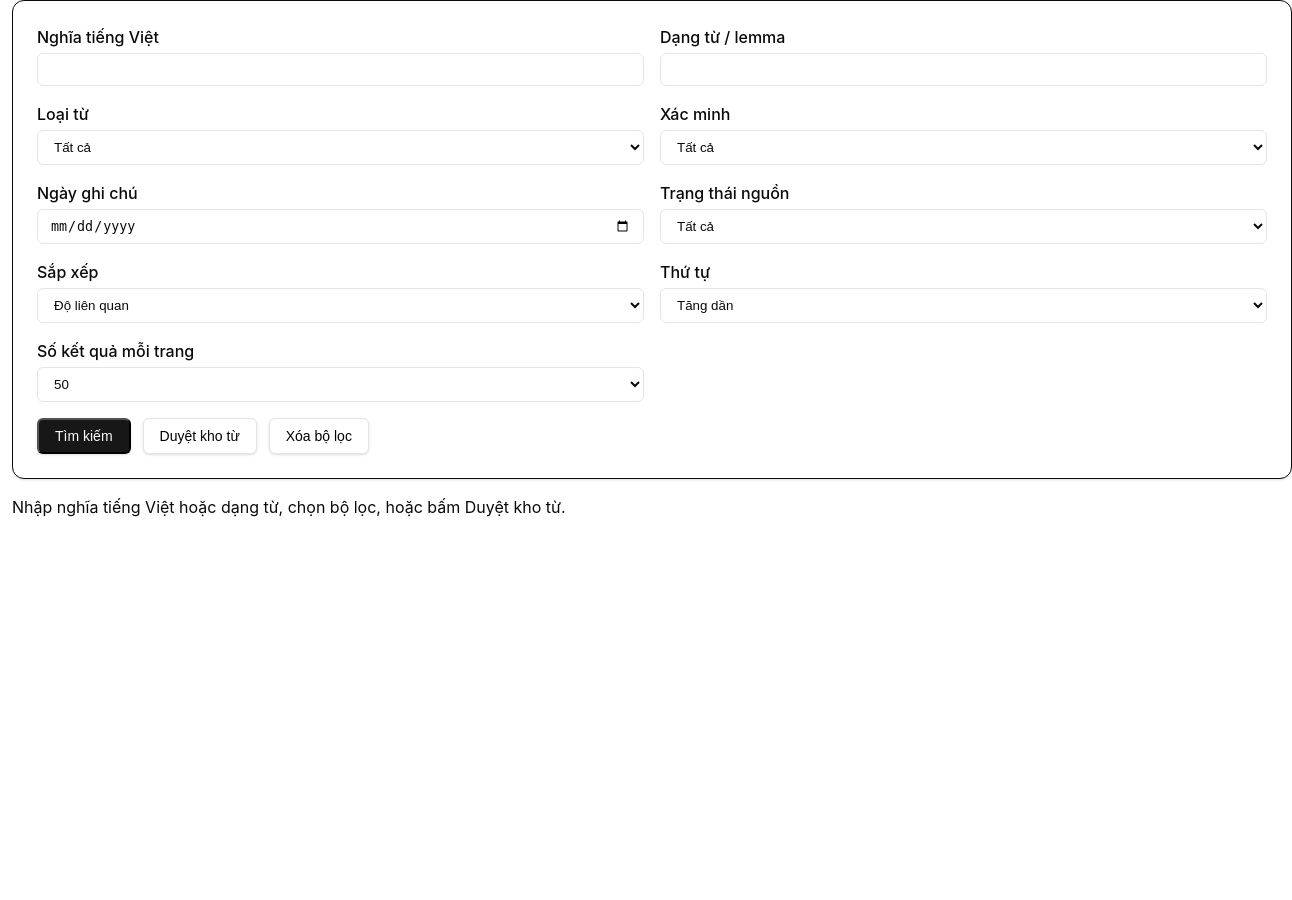
Test case: T028 local search › requires explicit browse and presents actual page data
Click the button "Duyệt kho từ".
click(200, 436)  # box [143,418,257,454]
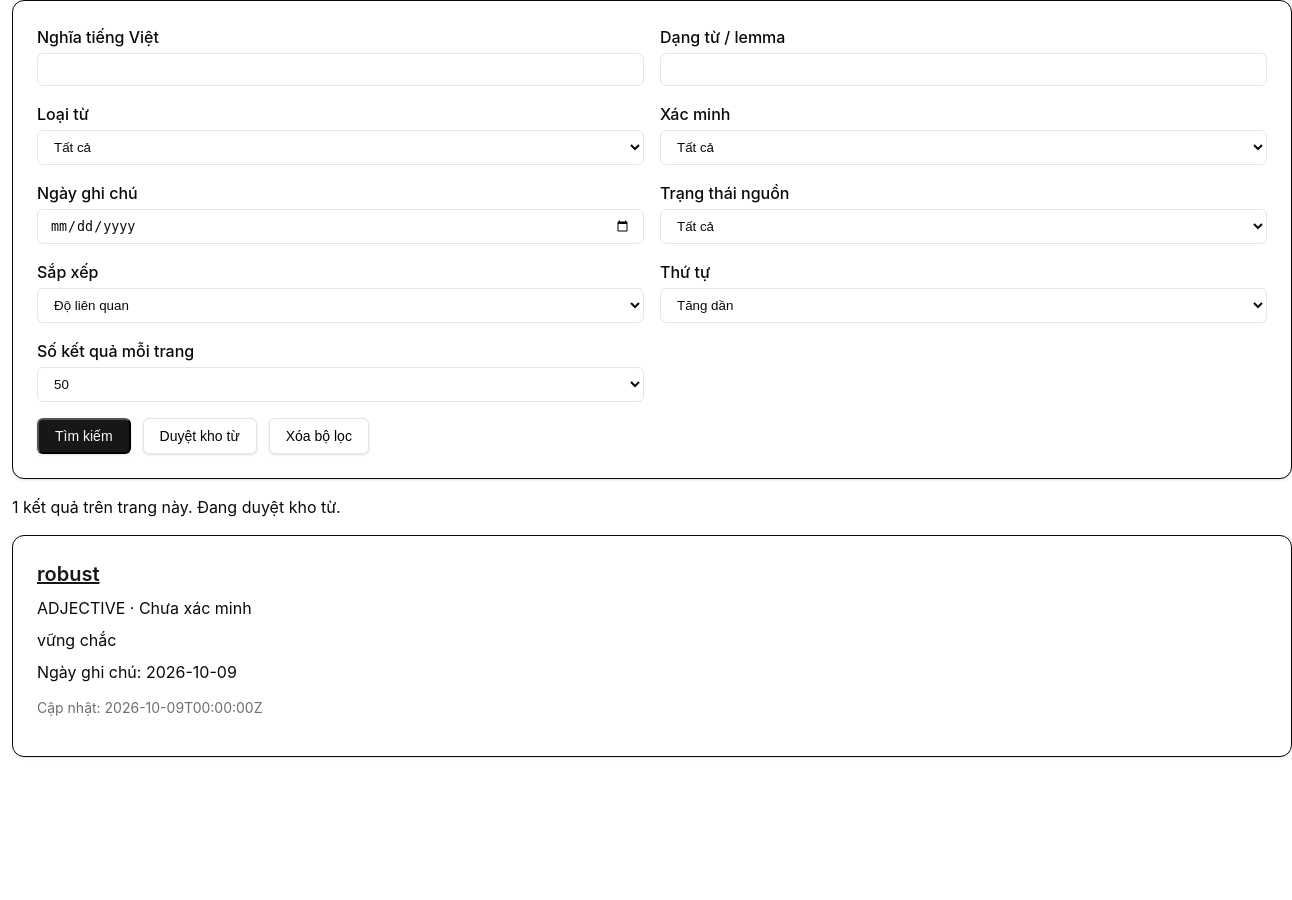
Expected: the text "robust" is shown, [37,562,100,586]
Expected: the text "1 kết quả trên trang này" is shown, [12,497,341,517]
